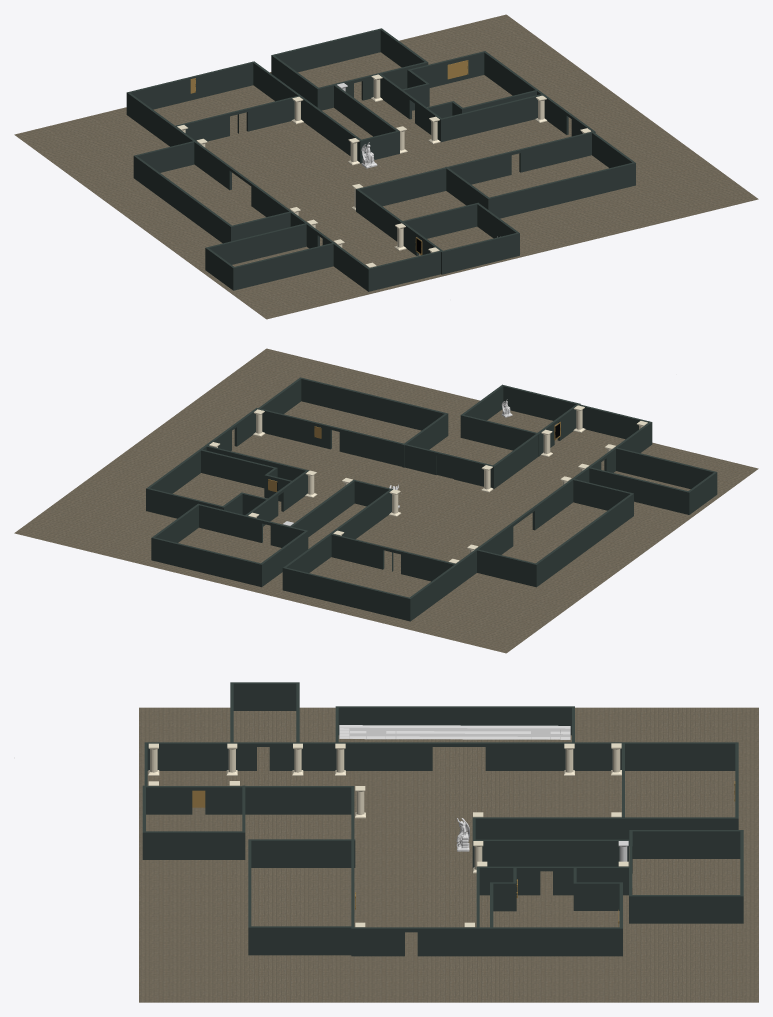
Rendered from FINALWALL.glb.
3 views of the same model, one above another, from view 1: azimuth 30°, elevation 25°; view 2: azimuth 150°, elevation 25°; view 3: azimuth 270°, elevation 25° (orthographic). The views are drawn at different scales.
Parts seen in each view (by area): view 1: Plane, Room, Room.001, Room.005, Room.007, Room.006, Room.002, Room.003, Room.008, Room.004; view 2: Plane, Room, Room.001, Room.007, Room.005, Room.006, Room.002, Room.008, Room.003, Room.004, Room.009; view 3: Plane, Room, Room.002, Room.001, Room.007, Room.003, Room.006, Room.005, Cabinet5, Room.004.
Part boxes in pixels (x1,y1,x2,y2): Plane: (14,14,758,319); Room: (126,61,635,291); Room.001: (271,28,428,110); Room.005: (205,223,333,290); Room.007: (133,141,290,243); Room.006: (400,202,519,274); Room.002: (402,51,595,136); Room.003: (379,73,542,142); Room.008: (175,96,298,141); Room.004: (427,90,536,118); Plane: (14,348,758,653); Room: (258,377,652,621); Room.001: (151,503,308,587); Room.007: (477,479,633,587); Room.005: (589,447,717,514); Room.006: (460,384,580,456); Room.002: (146,407,267,518); Room.008: (331,534,455,581); Room.003: (206,445,309,538); Room.004: (201,449,291,501); Room.009: (199,505,303,547); Plane: (139,707,758,1002); Room: (144,742,738,955); Room.002: (351,867,622,956); Room.001: (629,830,743,923); Room.007: (335,706,574,742); Room.003: (476,866,630,927); Room.006: (142,785,245,859); Room.005: (230,682,299,742); Cabinet5: (396,725,531,739); Room.004: (490,868,516,927).
Size of what is drawn, in the model's own units: 55.09 by 4.26 by 58.78.
10 materials, 1 textured.
